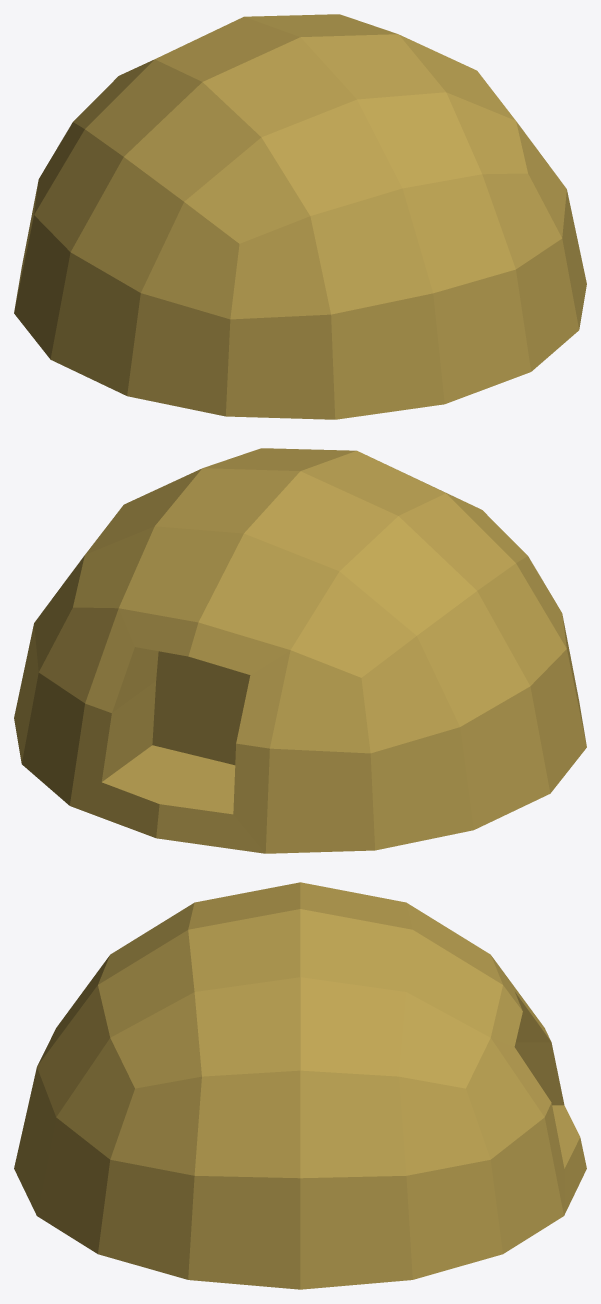
The model's file is yurt.fbx.
3 renders of one model, top to bottom at view 1: azimuth 30°, elevation 25°; view 2: azimuth 150°, elevation 25°; view 3: azimuth 270°, elevation 25°, orthographic.
Parts seen in each view (by area): view 1: Yurt; view 2: Yurt; view 3: Yurt.
Part boxes in pixels (x1,y1,x2,y2): Yurt: [14, 14, 586, 419]; Yurt: [14, 448, 586, 853]; Yurt: [14, 882, 586, 1289].
Bounding box in the file's own units: 1713 × 857 × 1713.
